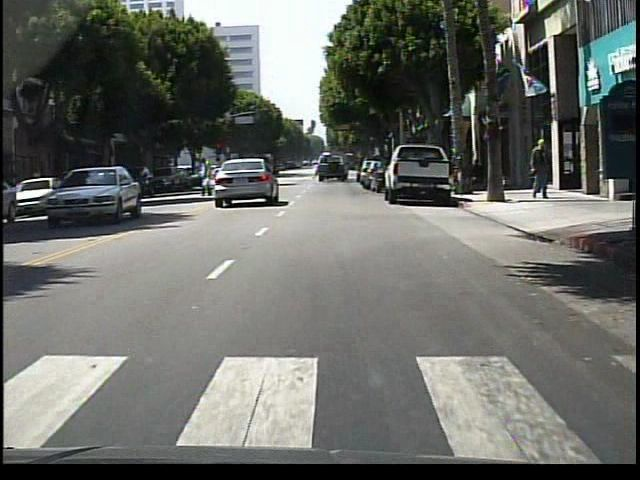person: (530, 136, 553, 200), (531, 146, 546, 198), (202, 156, 214, 199)
